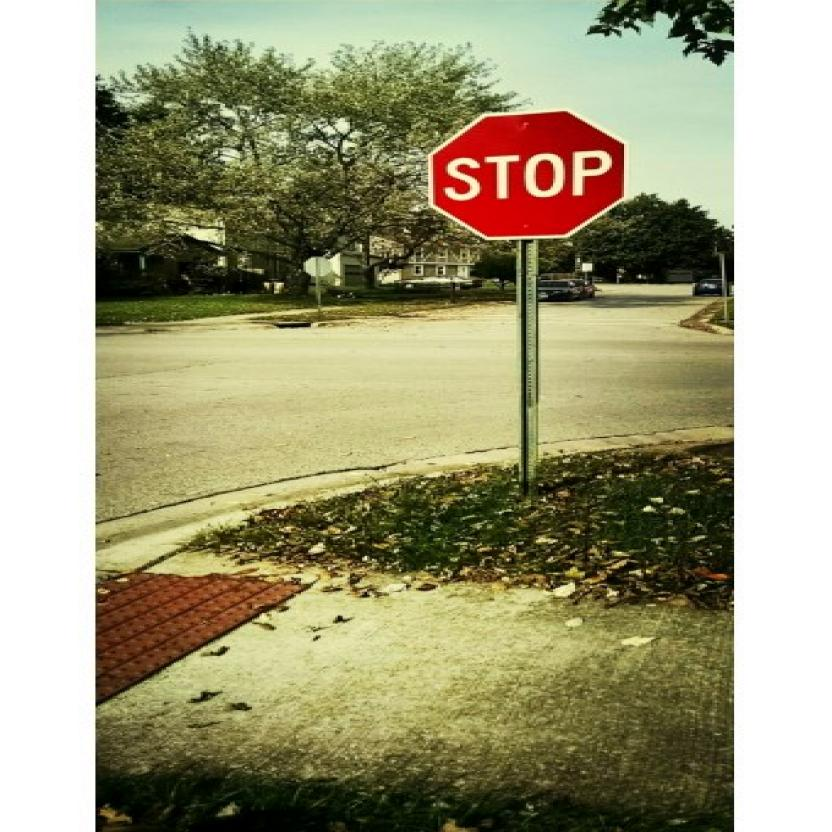Pole: (514, 240, 536, 494)
Sign: (426, 110, 641, 241)
